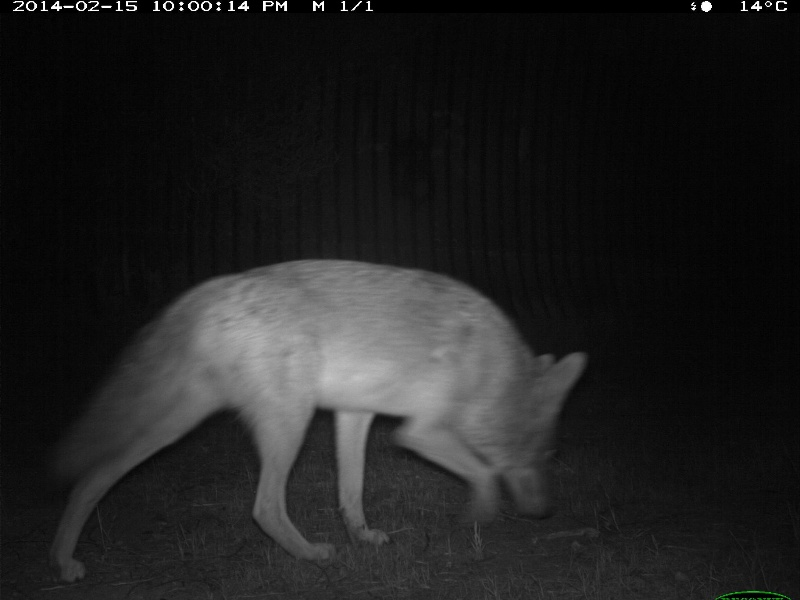coyote: (45, 251, 592, 580)
